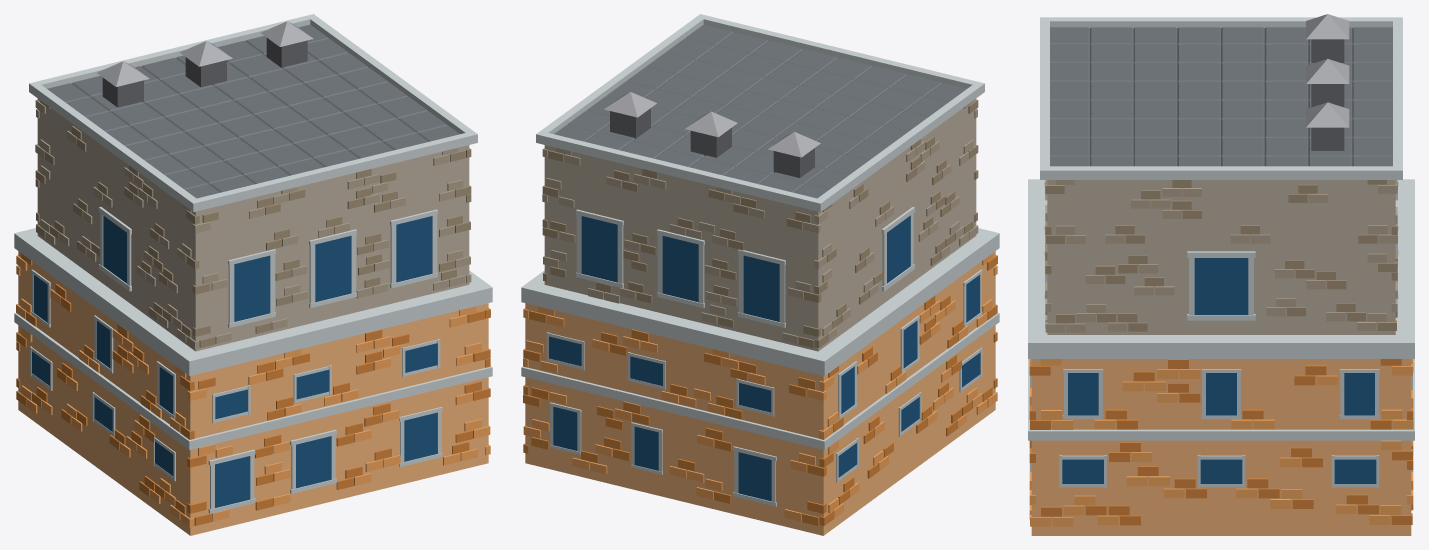
The model's file is SM_House_16_B.FBX.
The picture shows the model from 3 angles, left to right: view 1: azimuth 30°, elevation 25°; view 2: azimuth 150°, elevation 25°; view 3: azimuth 270°, elevation 25°; orthographic projection. The views are drawn at different scales.
Parts seen in each view (by area): view 1: SM_House_16_B; view 2: SM_House_16_B; view 3: SM_House_16_B.
Boxes of the visible parts, x1=… form: SM_House_16_B: x1=14, y1=14, x2=492, y2=535; SM_House_16_B: x1=521, y1=14, x2=999, y2=535; SM_House_16_B: x1=1028, y1=14, x2=1414, y2=535.
Size of what is drawn, in the model's own units: 809 by 809 by 917.
